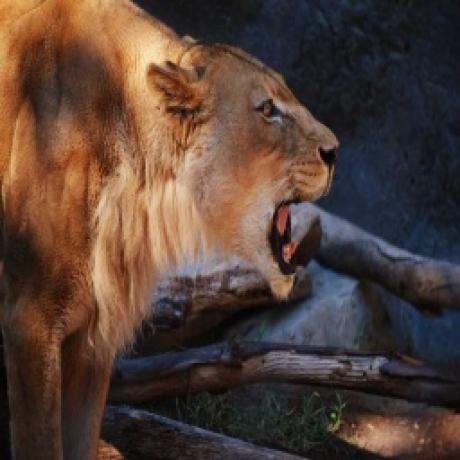Lion: (0, 0, 341, 460)
